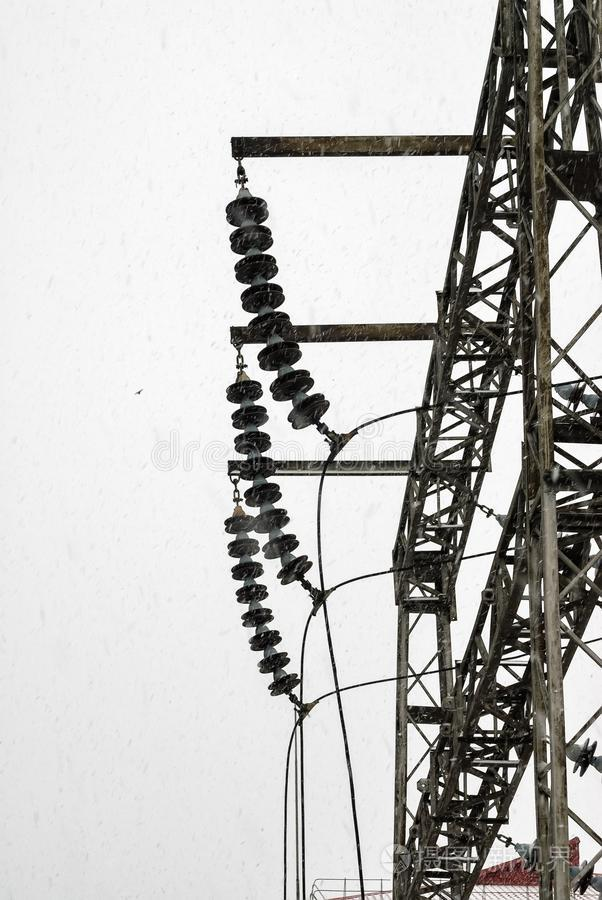insulator: (225, 195, 330, 430), (223, 375, 315, 583), (222, 510, 304, 699)
